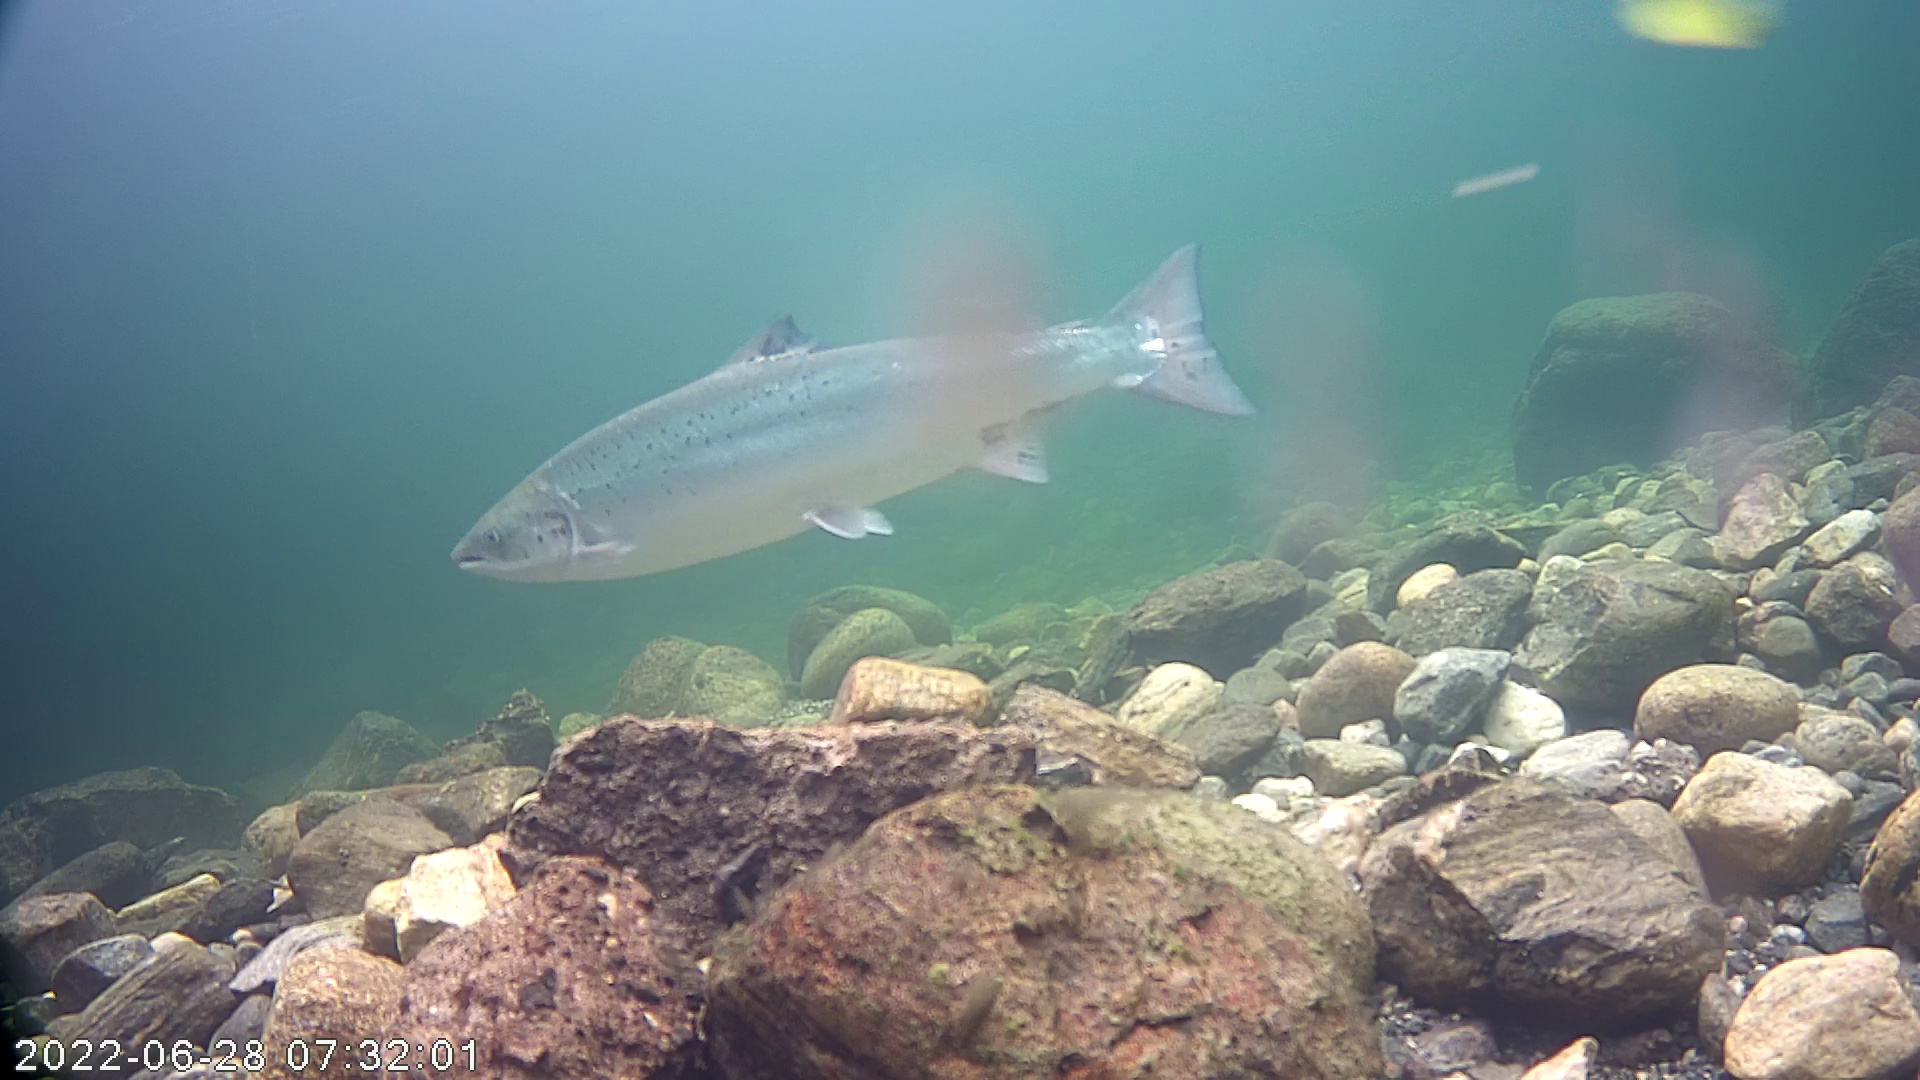salmon: (450, 178, 1276, 621)
